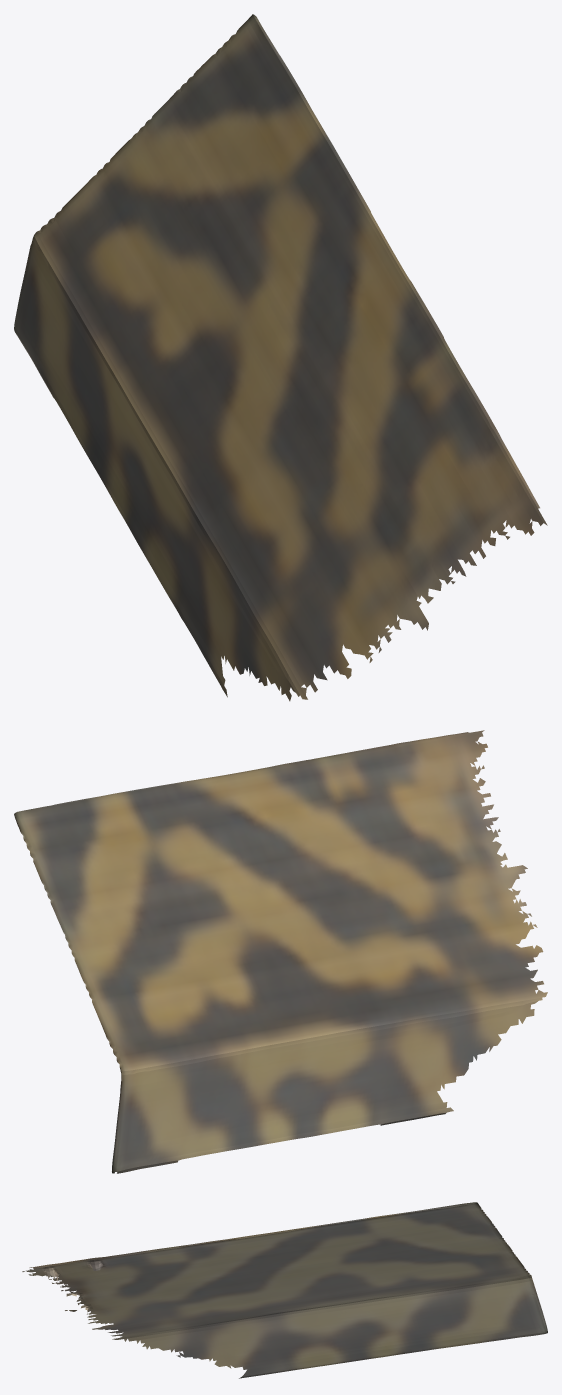
Rendered from guard-left.glb.
3 renders of one model, top to bottom at view 1: azimuth 30°, elevation 25°; view 2: azimuth 150°, elevation 25°; view 3: azimuth 270°, elevation 25°, orthographic. The views are drawn at different scales.
Parts seen in each view (by area): view 1: geometry_0; view 2: geometry_0; view 3: geometry_0.
Part boxes in pixels (x1,y1,x2,y2): geometry_0: (14, 14, 547, 701); geometry_0: (14, 730, 547, 1173); geometry_0: (22, 1202, 547, 1378).
Size of the model in its own units: 0.5304 by 0.8164 by 1.58.
